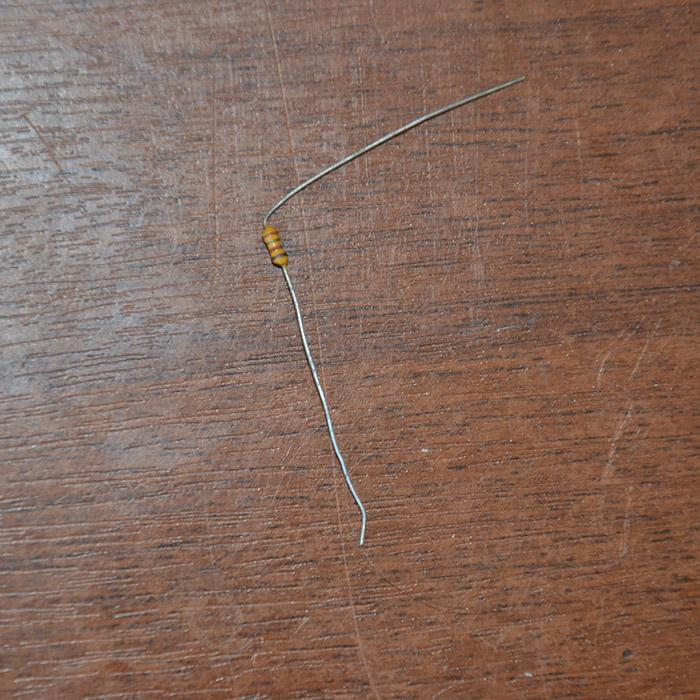resistor: (261, 224, 289, 268)
